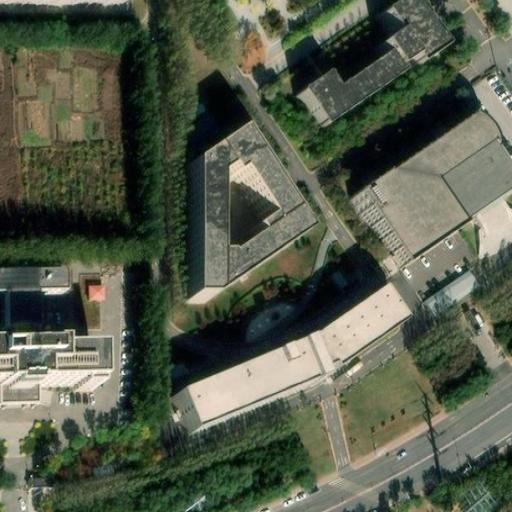building: (157, 295, 384, 440), (349, 121, 512, 274), (190, 126, 310, 297), (280, 2, 432, 135), (416, 266, 474, 314), (0, 276, 61, 301), (84, 276, 106, 298)
